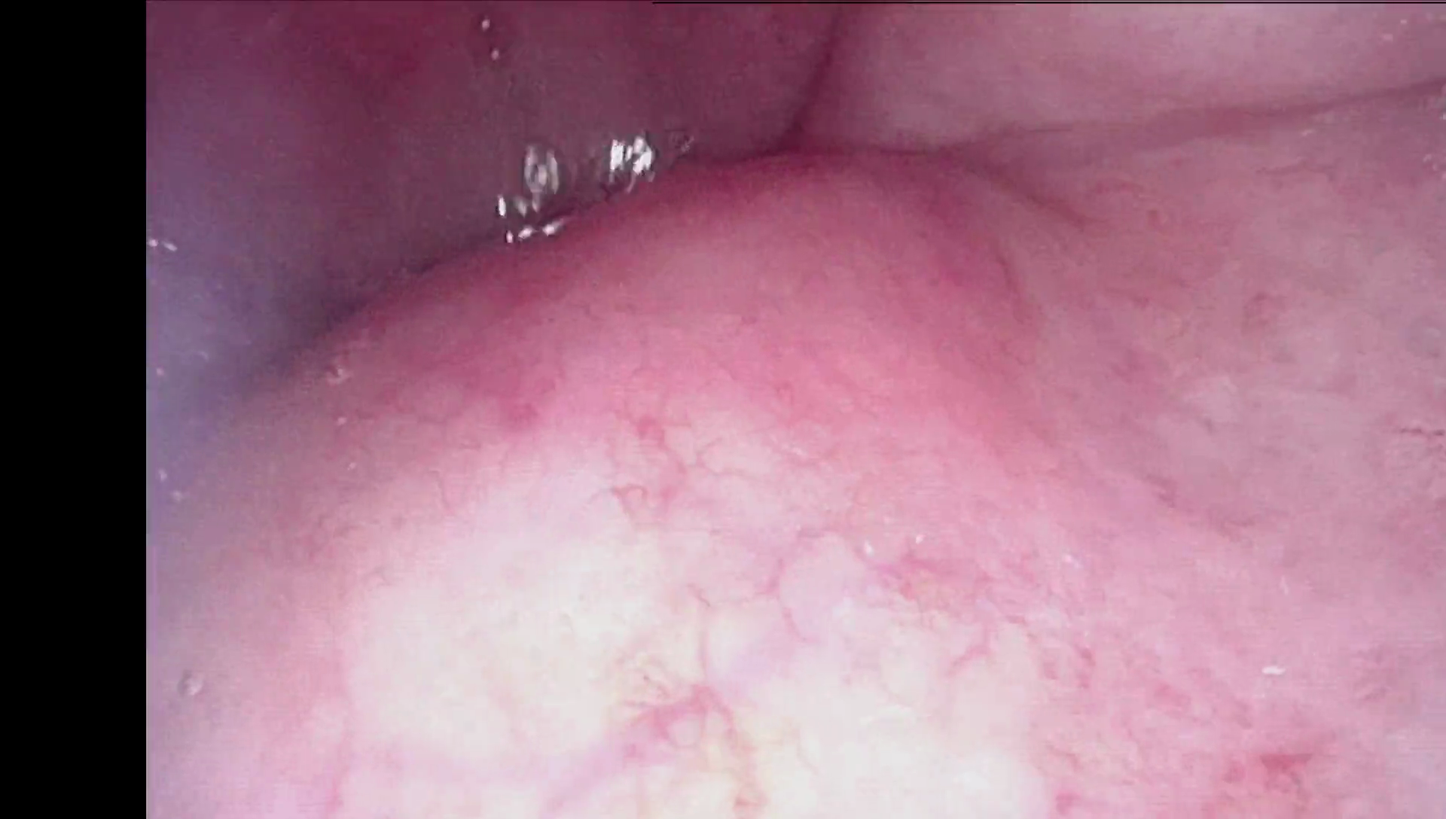close_wall: (262, 380, 1205, 819)
